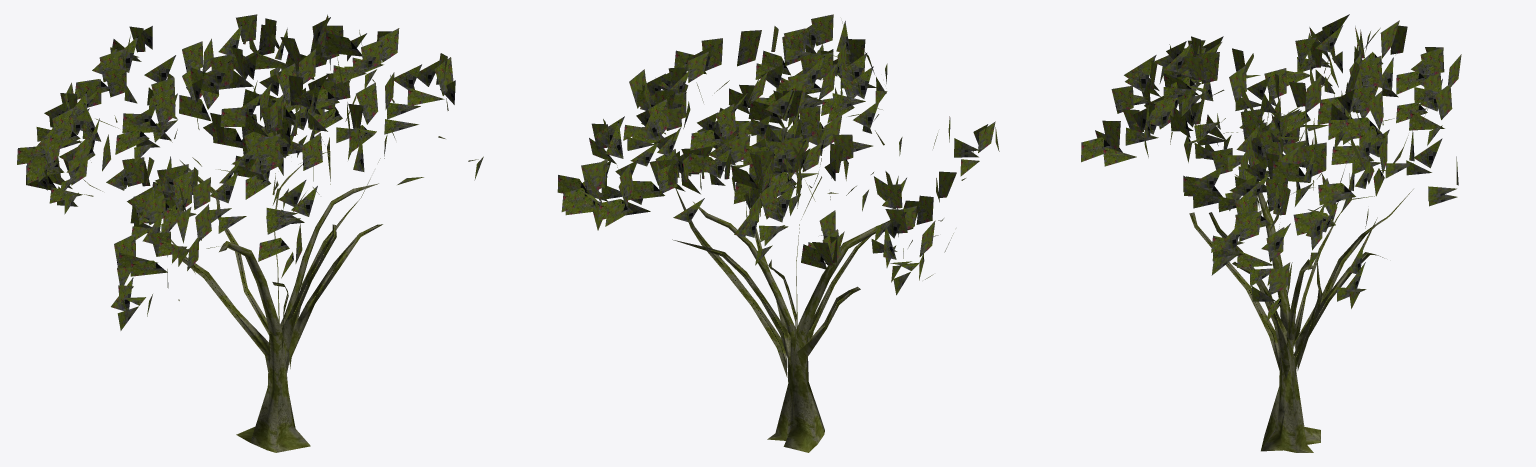
File: jungle-hura-a-map.glb
3 views of the same model, side by side, from view 1: azimuth 30°, elevation 25°; view 2: azimuth 150°, elevation 25°; view 3: azimuth 270°, elevation 25° (orthographic). The views are drawn at different scales.
Parts seen in each view (by area): view 1: LOD0; view 2: LOD0; view 3: LOD0.
Boxes of the visible parts, box(x1,y1,x2,y2) form: LOD0: box(17, 14, 483, 452); LOD0: box(557, 14, 999, 452); LOD0: box(1081, 14, 1461, 452).
Size of the model in its own units: 21.12 by 18.2 by 18.38.
1 material, 1 textured.
